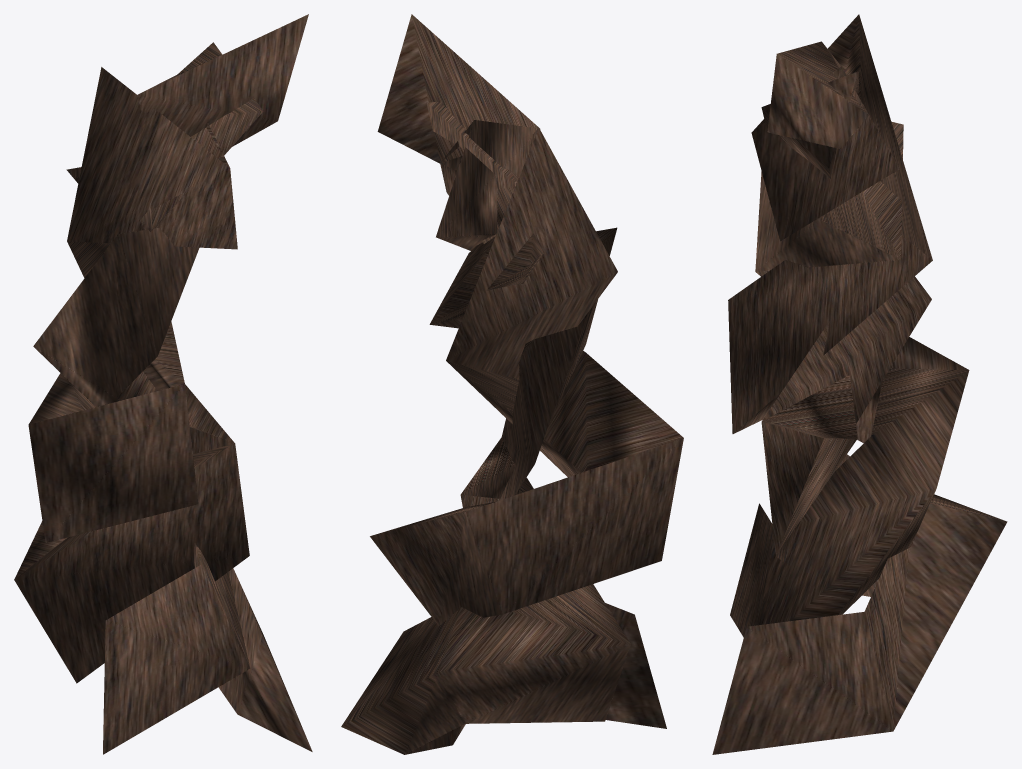
Rendered from Afro_Curl.fbx.
3 renders of one model, left to right at view 1: azimuth 30°, elevation 25°; view 2: azimuth 150°, elevation 25°; view 3: azimuth 270°, elevation 25°, orthographic.
Visible parts, largest first — view 1: pCylinder3; view 2: pCylinder3; view 3: pCylinder3.
Part boxes in pixels (x1,y1,x2,y2): pCylinder3: (14, 14, 312, 754); pCylinder3: (341, 14, 683, 754); pCylinder3: (712, 14, 1007, 754).
Size of the model in its own units: 0.1683 by 0.397 by 0.1485.
Materials: 1 (1 with a texture image).
